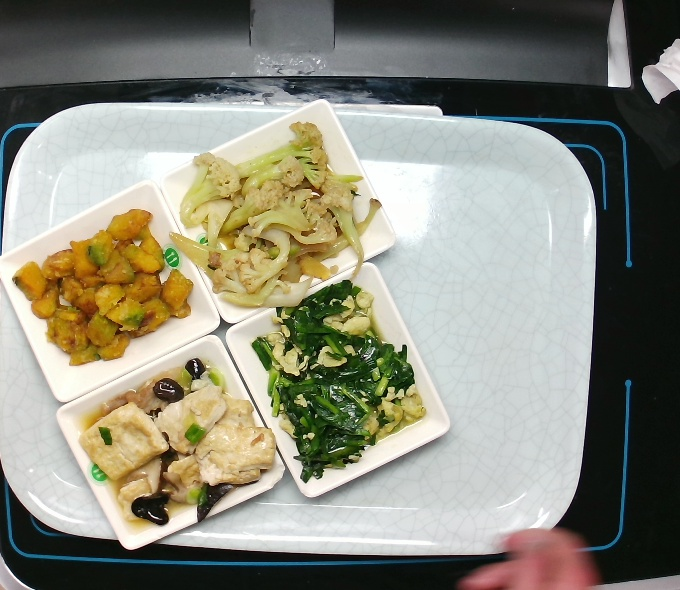wcq-DanHuangNanGua: (11, 207, 195, 369)
wcq-JiaChangDouFu: (77, 355, 276, 528)
wcq-JiuCaiJiDan: (248, 277, 428, 482)
wcq-QiuCai: (174, 120, 367, 310)
